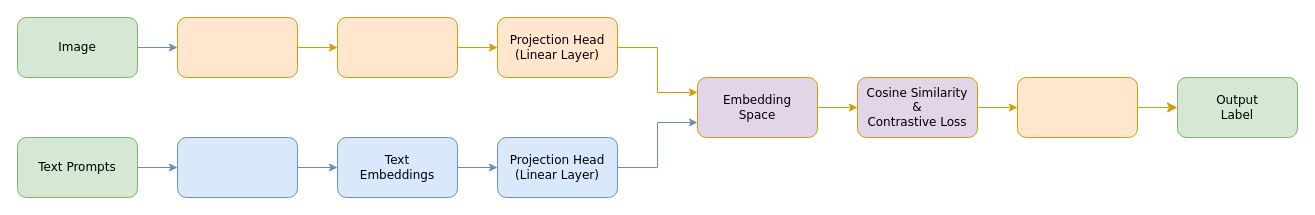
This 1315x215 diagram has some shape labels left out. The shapes that lost their labels are listed below. From the top down, each one's box as (x1, y1, x2, y2) in pixels, then its label:
(176, 16, 298, 78): Vision Encoder (ViT)
(336, 16, 458, 78): Image Embeddings
(1016, 76, 1138, 138): Transformer Classifier
(176, 136, 298, 198): Text Encoder (Transformer)
